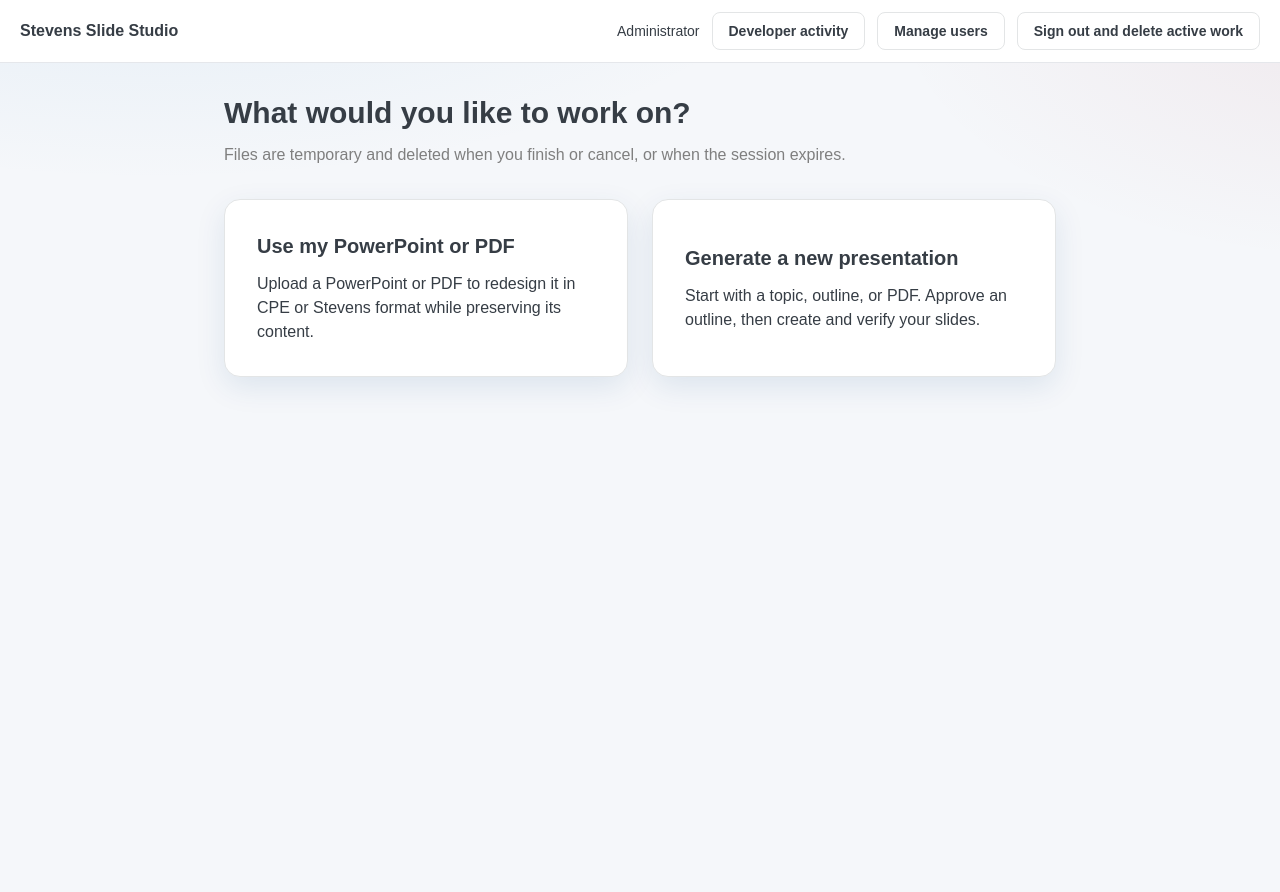
it: existing deck selection routes to upload while generation has adaptive length
Click the button "Use my PowerPoint": x=426, y=288 224,199 -> 628,377
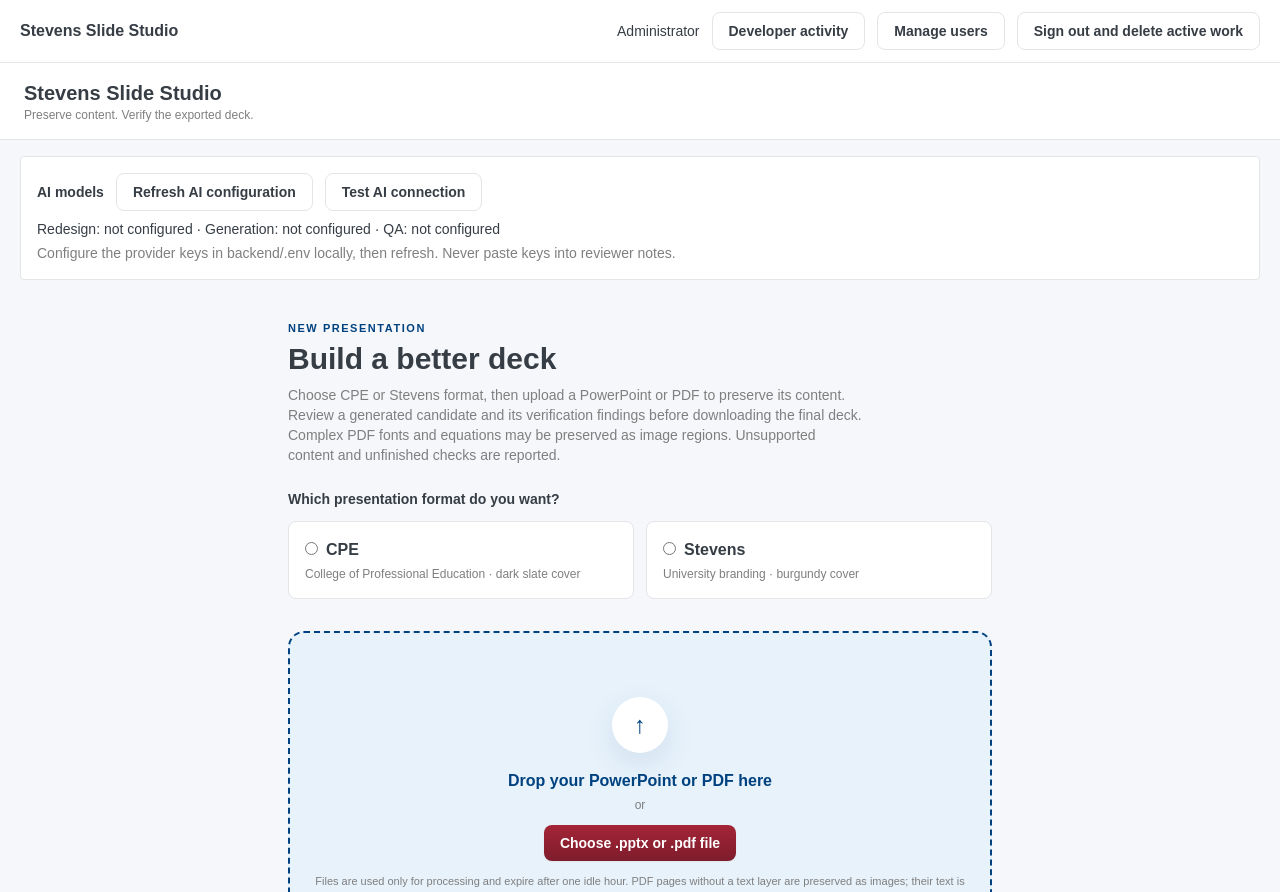
expect the heading "Build a better deck" is shown: met, box 288,342 -> 556,374
Click the button "Stevens Slide Studio": x=99, y=31 20,19 -> 178,43
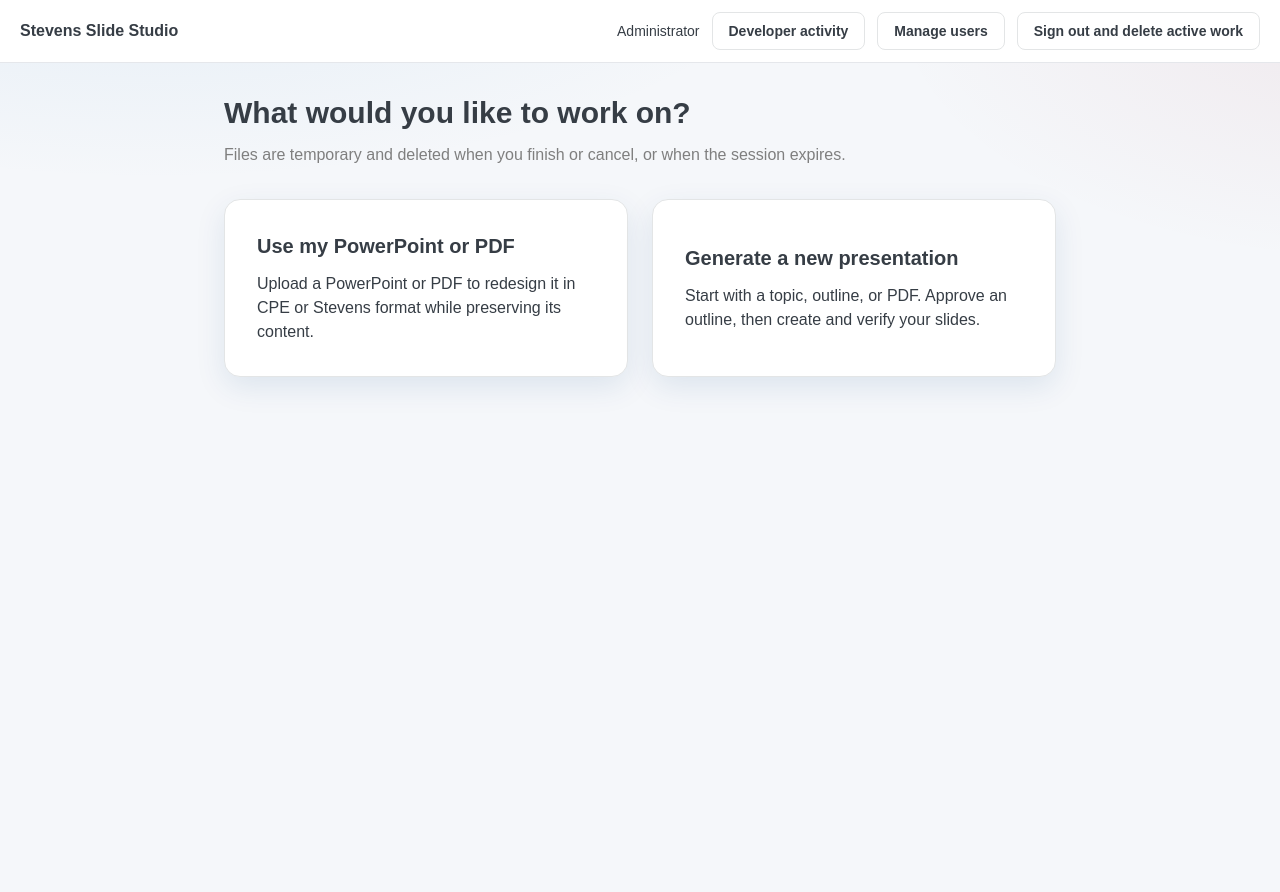
Click the button "Generate a new presentation": x=854, y=288 652,199 -> 1056,377
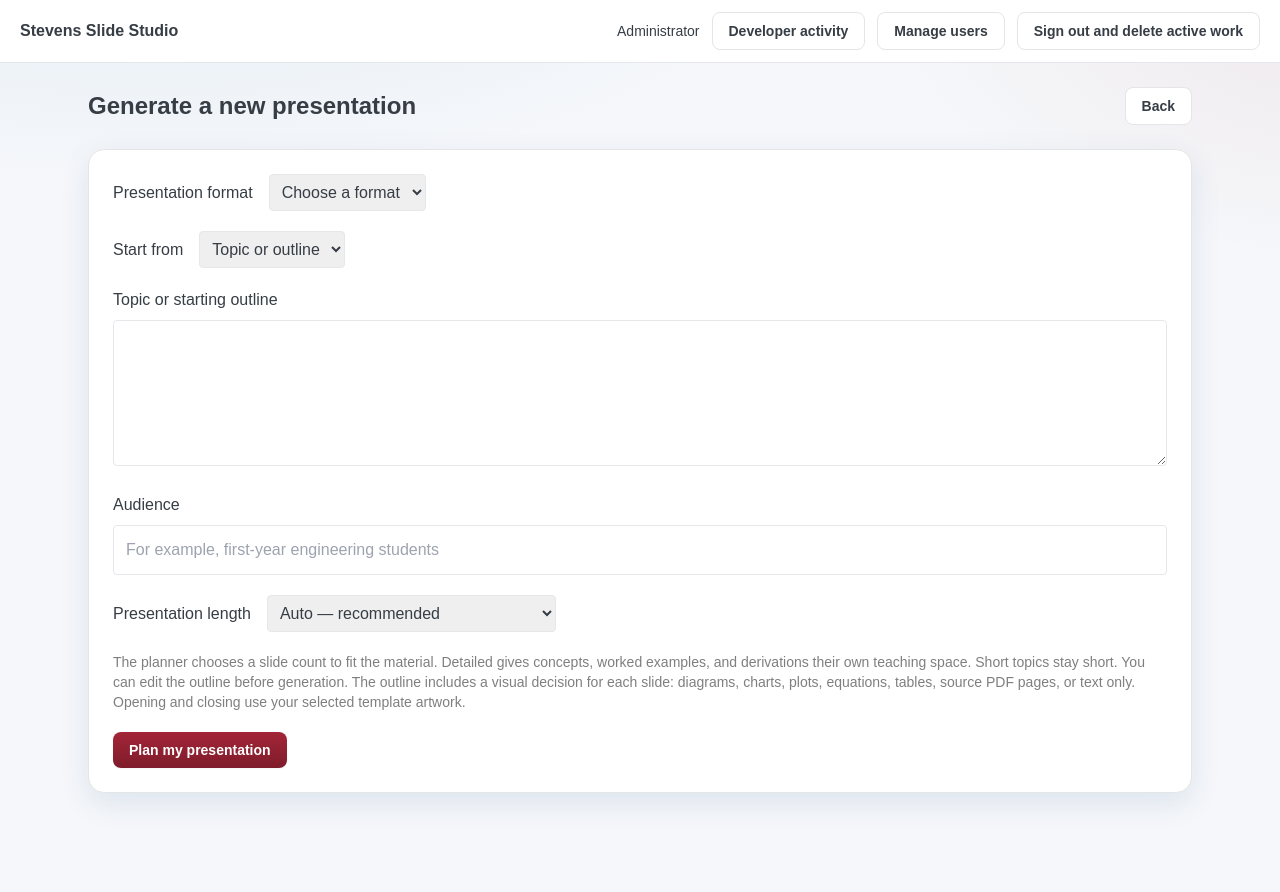
expect the dropdown labelled "Presentation length" shows "Auto — recommended": met, box 267,595 -> 556,632
expect the dropdown labelled "Start from" shows "Topic or outline": met
Select "PDF document" in the dropdown labelled "Start from": x=272, y=250 199,231 -> 345,268
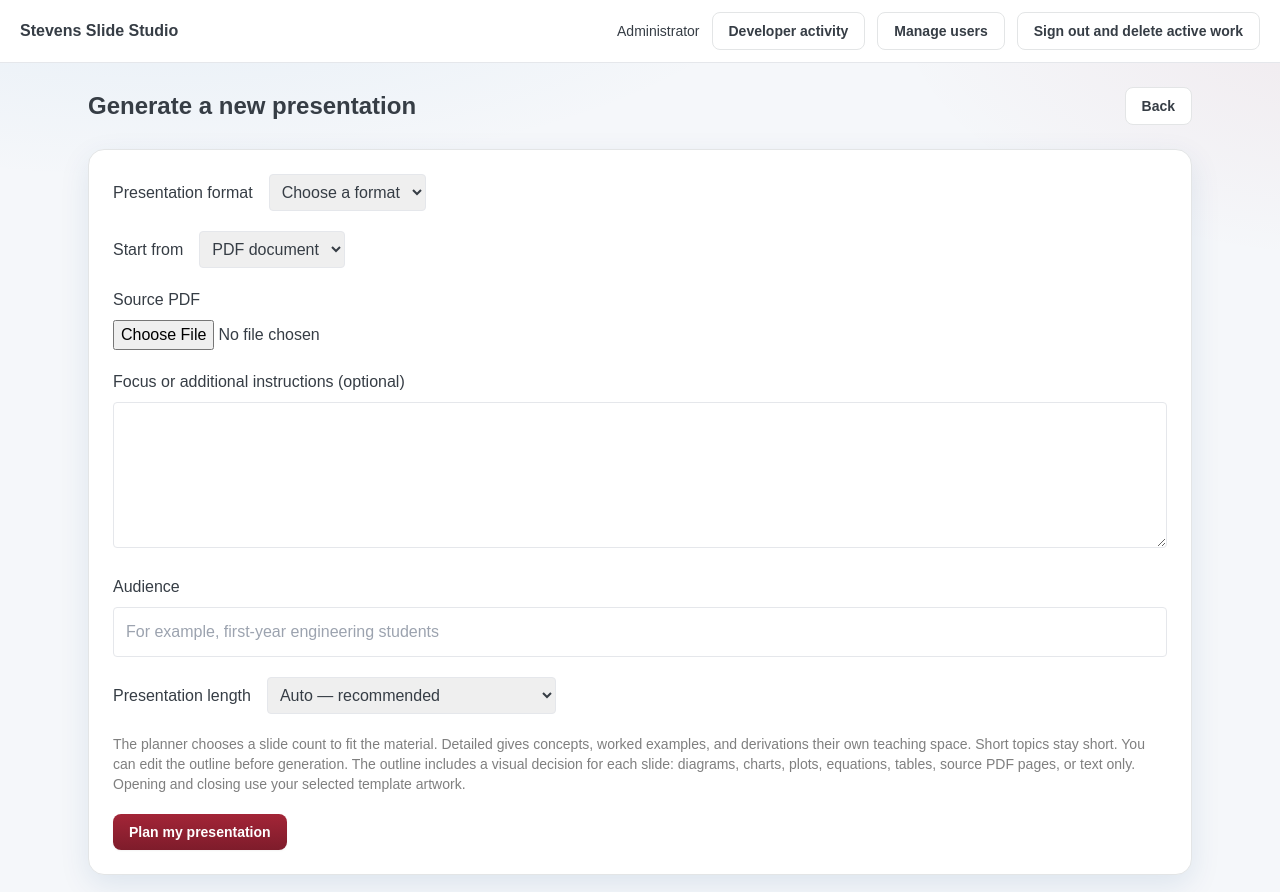
expect the file field labelled "Source PDF" is shown: met, box 113,320 -> 416,350
